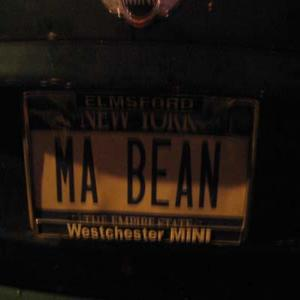Vehicle-registration-plate: (23, 93, 261, 246)
